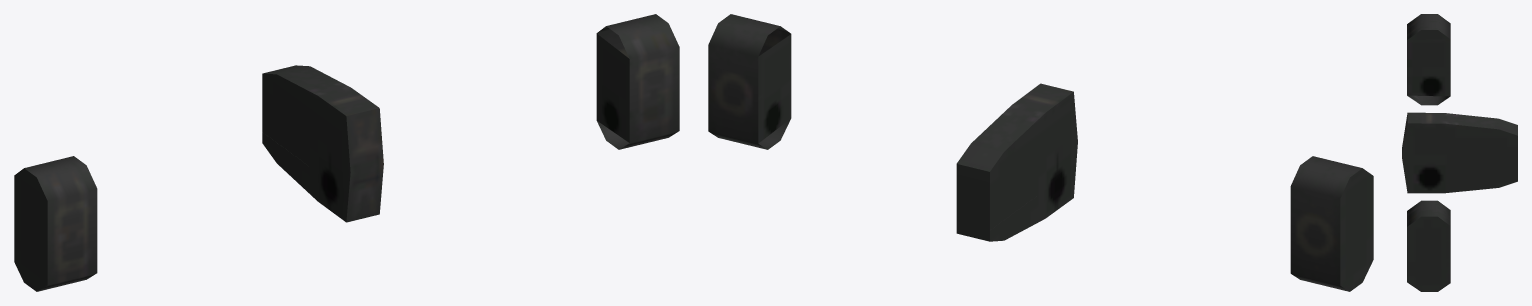
The picture shows the model from 3 angles, left to right: view 1: azimuth 30°, elevation 25°; view 2: azimuth 150°, elevation 25°; view 3: azimuth 270°, elevation 25°; orthographic projection. The views are drawn at different scales.
Parts seen in each view (by area): view 1: set_0_group_0; view 2: set_0_group_0; view 3: set_0_group_0.
Part boxes in pixels (x1,y1,x2,y2): set_0_group_0: (14, 14, 679, 291); set_0_group_0: (708, 14, 1373, 291); set_0_group_0: (1402, 14, 1517, 291).
Bounding box in the file's own units: 0.7101 × 0.1229 × 0.1715.
Materials: 1 (1 with a texture image).
